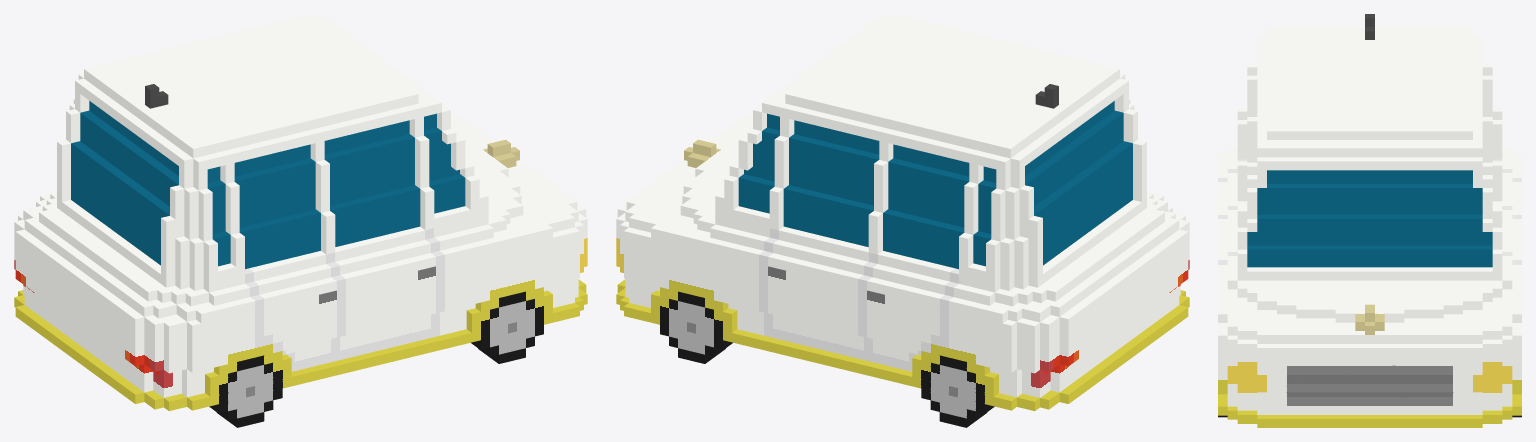
3 renders of one model, left to right at view 1: azimuth 30°, elevation 25°; view 2: azimuth 150°, elevation 25°; view 3: azimuth 270°, elevation 25°, orthographic. The views are drawn at different scales.
Visible parts, largest first — view 1: Object; view 2: Object; view 3: Object.
Part boxes in pixels (box(x1,y1,x2,y2)): Object: box(14, 14, 587, 427); Object: box(616, 14, 1189, 427); Object: box(1218, 14, 1521, 427).
Size of the model in its own units: 50 by 30 by 31.
1 material, 1 textured.
